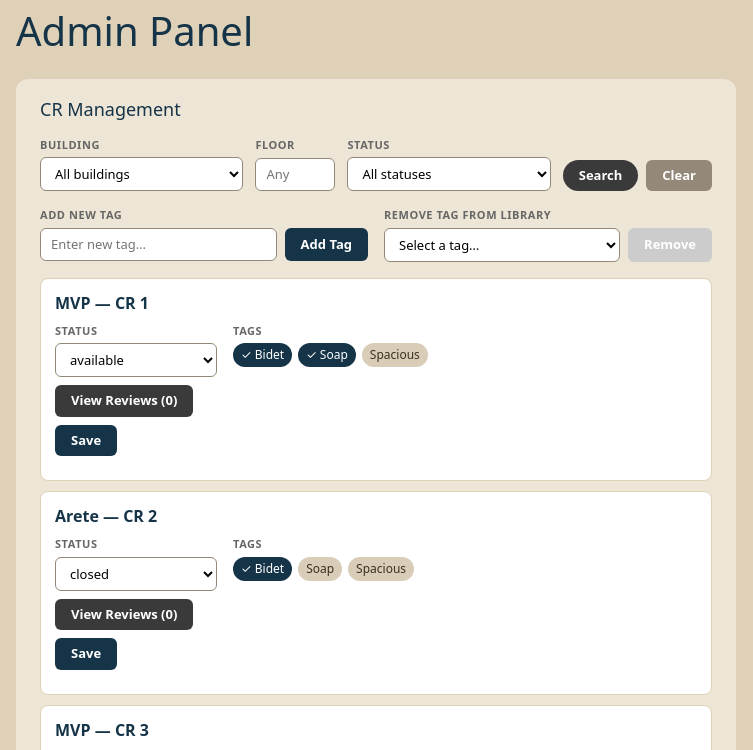
Scenario: CR Management — filter bar › filters by floor — only shows CRs on the specified floor
This screenshot has width=753, height=750.
Expected: the text "MVP — CR 1" is shown, [55, 292, 149, 314]
In the number field with placeholder "Any": (295, 174) [255, 158, 335, 191], type "1"
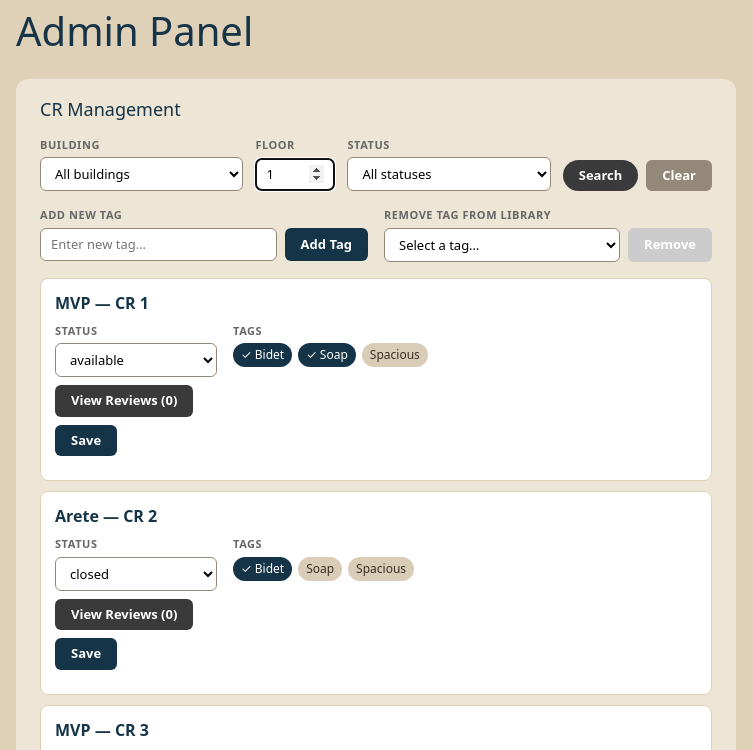
Click the button "Search": (601, 175) [563, 160, 638, 191]
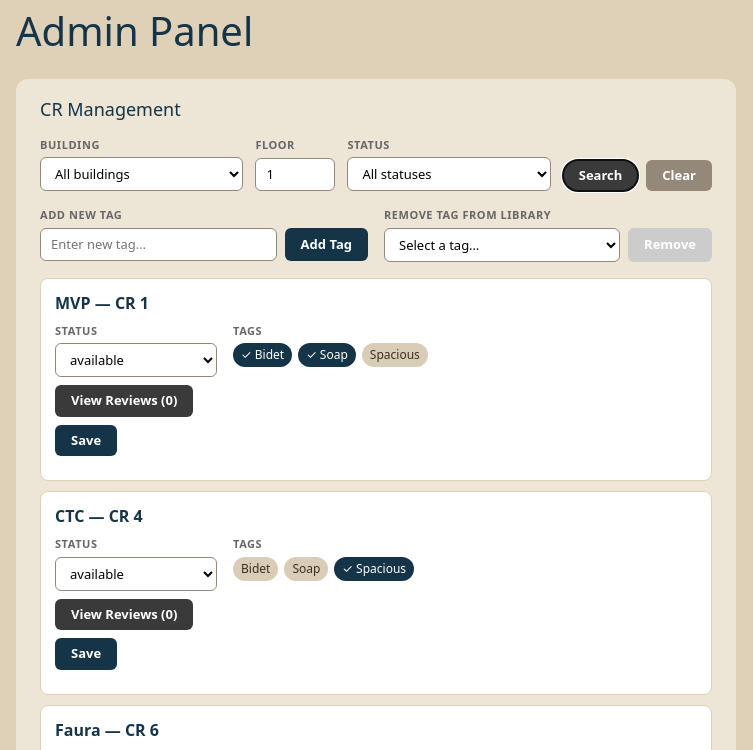
Expected: the text "MVP — CR 1" is shown, [55, 292, 149, 314]
Now the text "Arete — CR 2" is gone
Now the text "MVP — CR 3" is gone
